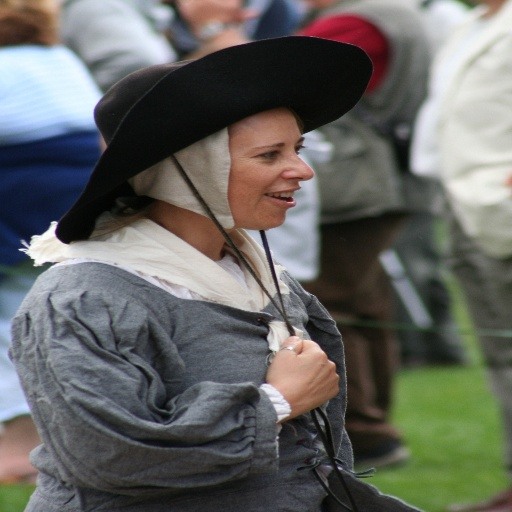hand: (264, 332, 343, 430), (173, 0, 243, 35)
